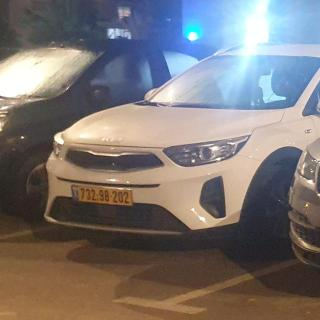LicensePlate: (77, 186, 133, 206)
